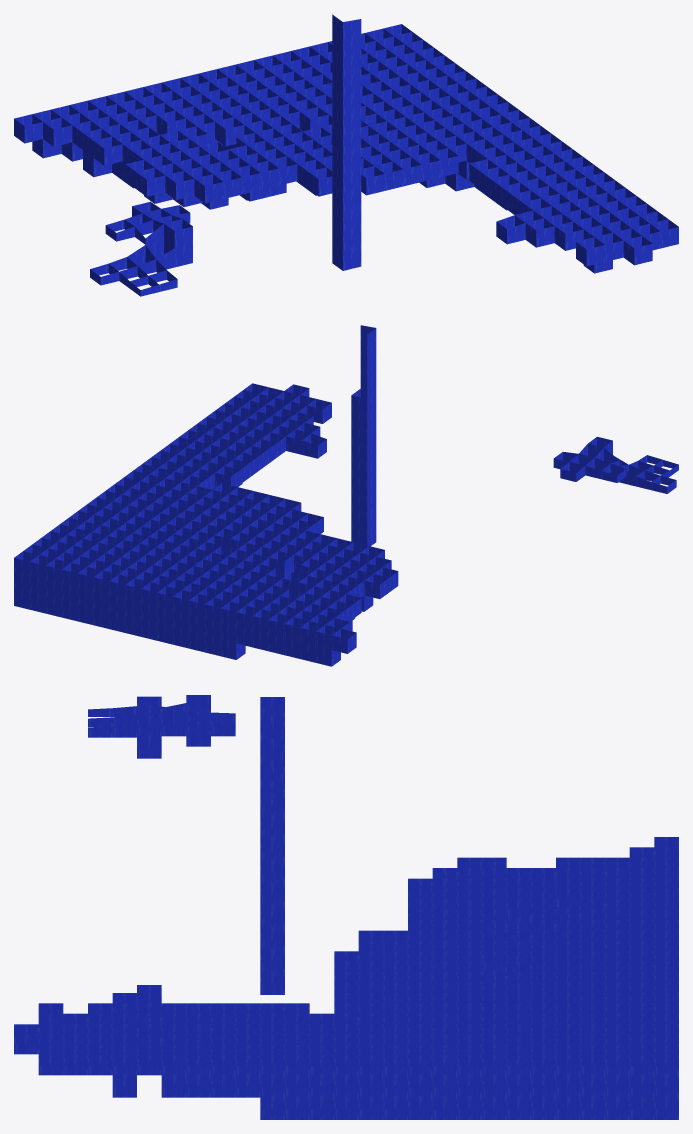
The model's file is lighthouse_water_flow.obj.
The picture shows the model from 3 angles, top to bottom: view 1: azimuth 30°, elevation 25°; view 2: azimuth 150°, elevation 25°; view 3: azimuth 270°, elevation 25°; orthographic projection. The views are drawn at different scales.
Bounding box in the file's own units: 29 × 12.88 × 27.
